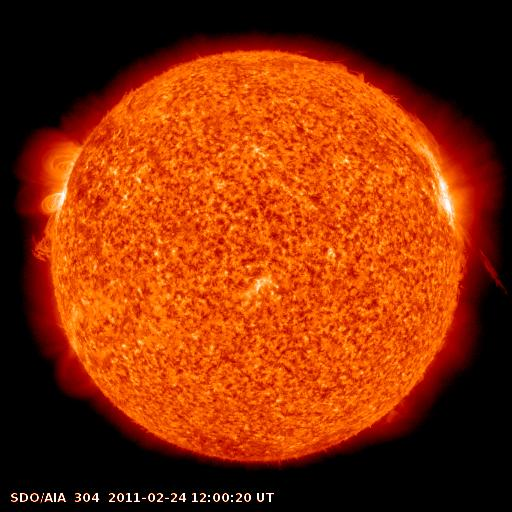prominence: (452, 223, 512, 300), (23, 214, 65, 279)
